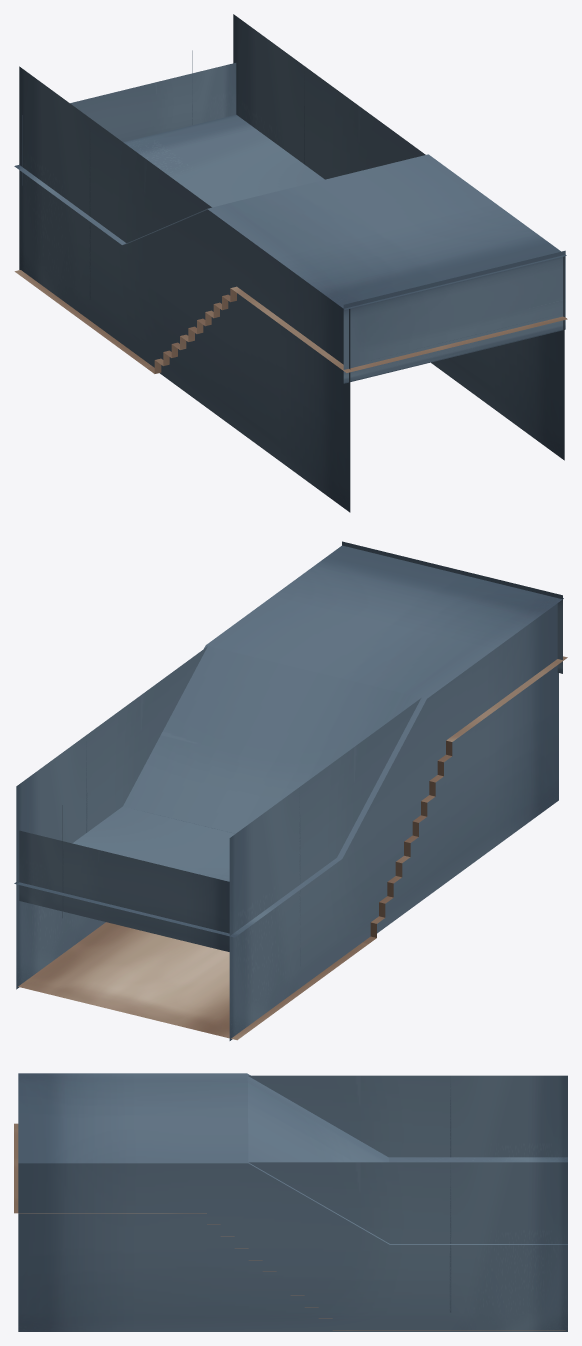
Rendered from outside.gltf.
3 views of the same model, one above another, from view 1: azimuth 30°, elevation 25°; view 2: azimuth 150°, elevation 25°; view 3: azimuth 270°, elevation 25° (orthographic). The views are drawn at different scales.
Parts seen in each view (by area): view 1: WallsOutside.001, RoofOutside, WallsOutside, WallsOutside.002, FloorOutside; view 2: WallsOutside.001, RoofOutside, FloorOutside, WallsOutside, WallsOutside.002; view 3: WallsOutside, RoofOutside, WallsOutside.001, FloorOutside.
Part boxes in pixels (x1=…): WallsOutside.001: x1=19, y1=50, x2=350, y2=512; RoofOutside: x1=14, y1=114, x2=566, y2=309; WallsOutside: x1=233, y1=14, x2=564, y2=460; WallsOutside.002: x1=343, y1=250, x2=565, y2=383; FloorOutside: x1=14, y1=270, x2=567, y2=373; WallsOutside.001: x1=19, y1=603, x2=558, y2=1040; RoofOutside: x1=14, y1=545, x2=563, y2=937; FloorOutside: x1=18, y1=656, x2=567, y2=1040; WallsOutside: x1=16, y1=646, x2=207, y2=989; WallsOutside.002: x1=342, y1=541, x2=562, y2=673; WallsOutside: x1=18, y1=1162, x2=567, y2=1331; RoofOutside: x1=18, y1=1073, x2=567, y2=1244; WallsOutside.001: x1=248, y1=1075, x2=567, y2=1157; FloorOutside: x1=14, y1=1123, x2=565, y2=1330.
Bounding box in the file's own units: 17.52 × 15.65 × 45.42.
3 materials, 3 textured.
